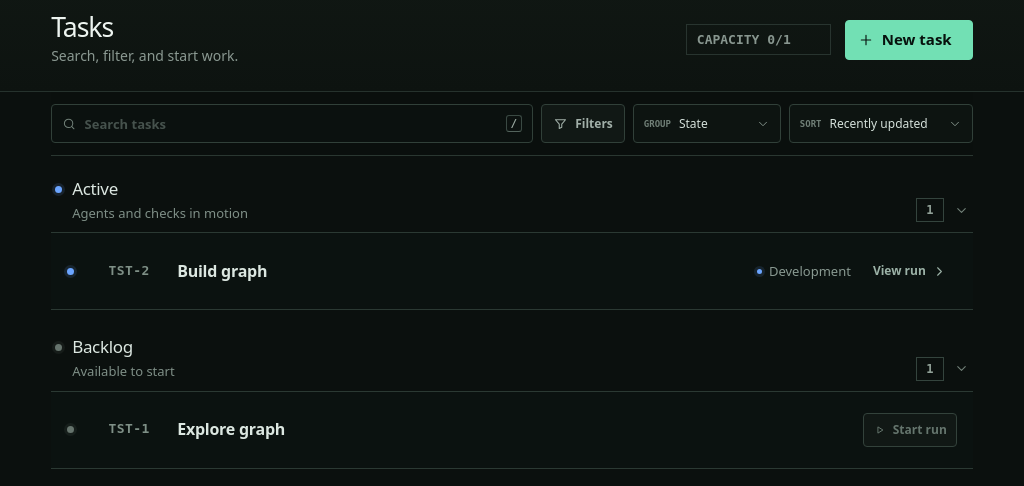
WorkBoard › closes a nested selection before closing Filters with Escape
This screenshot has width=1024, height=486.
Click the button "Filters" at coordinates (583, 124), box x1=541 y1=104 x2=625 y2=143
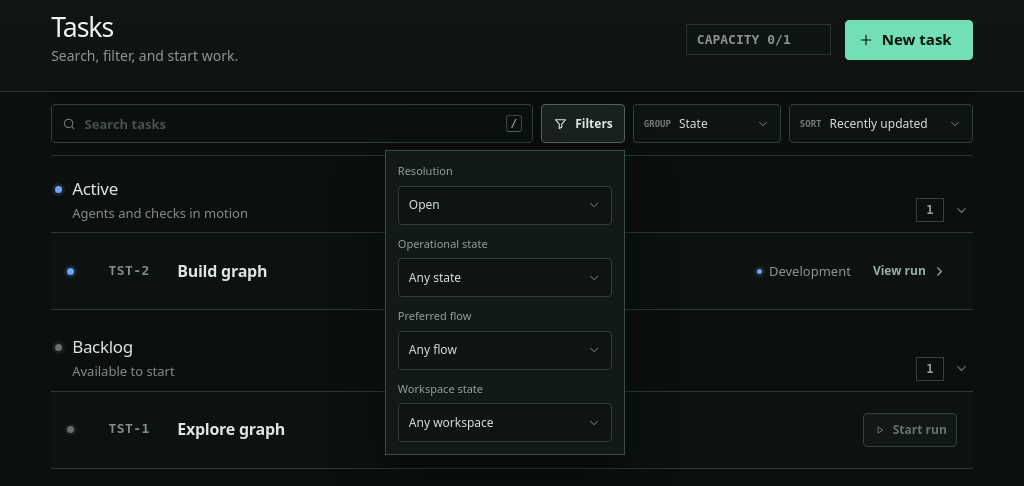
Click the dropdown named "Resolution" at coordinates (505, 205), box x1=398 y1=186 x2=612 y2=224
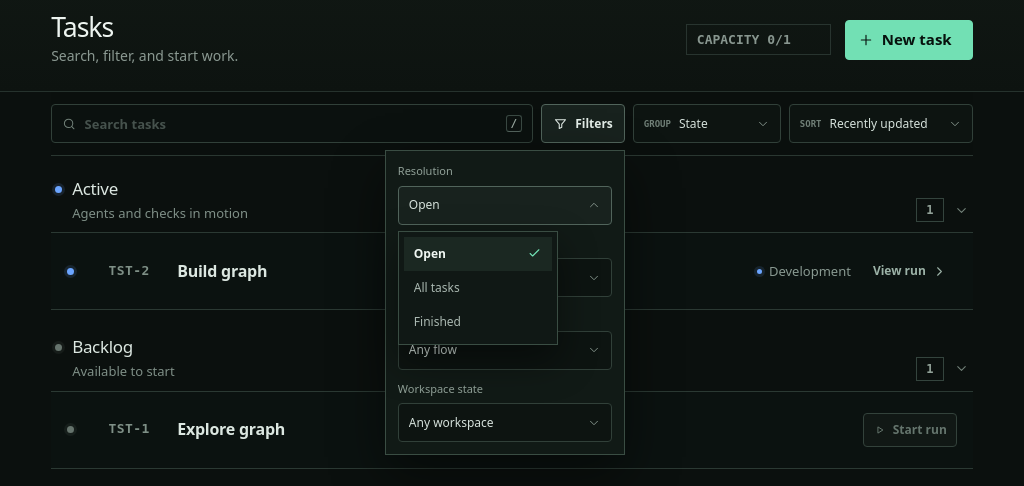
Press Escape in the list named "Resolution options", box x1=398 y1=230 x2=558 y2=344
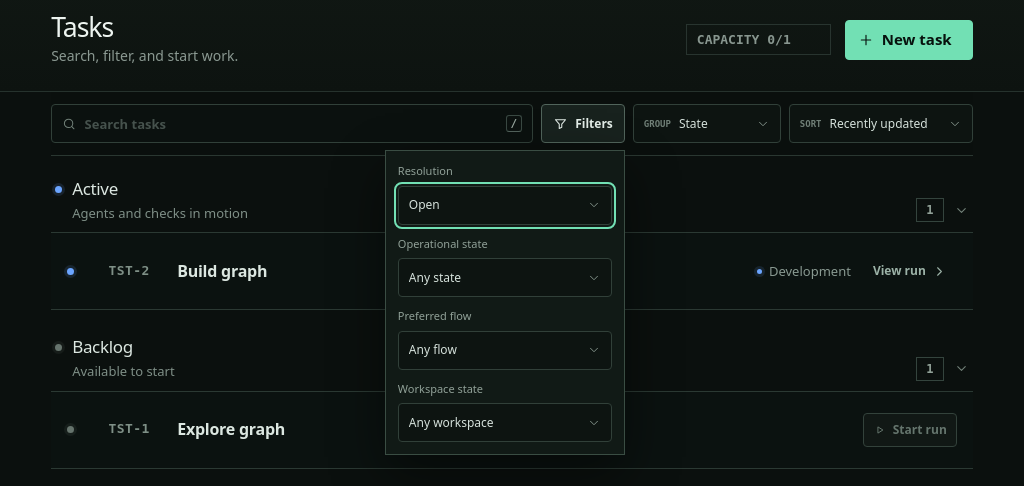
Expected: the button "Filters" is expanded, x1=541 y1=104 x2=625 y2=143
Press Escape
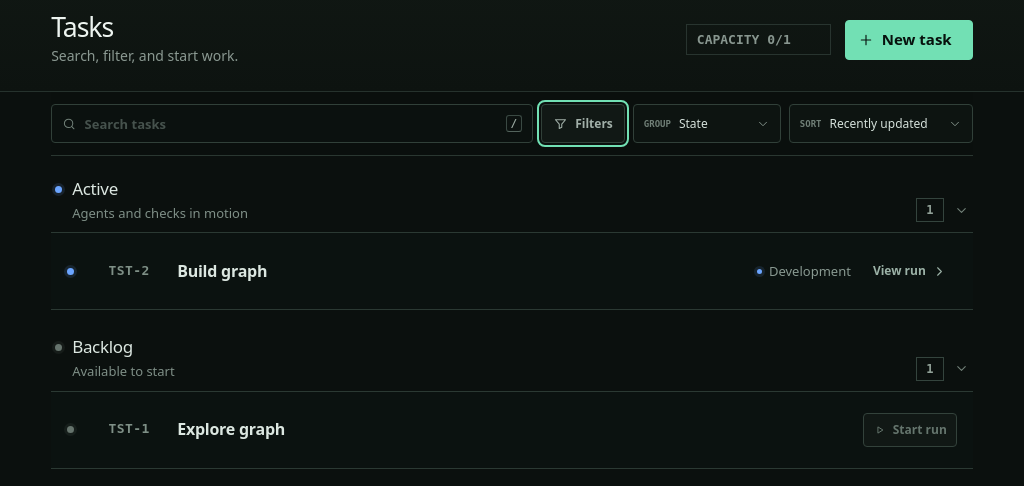
Expected: the button "Filters" is collapsed, x1=541 y1=104 x2=625 y2=143
